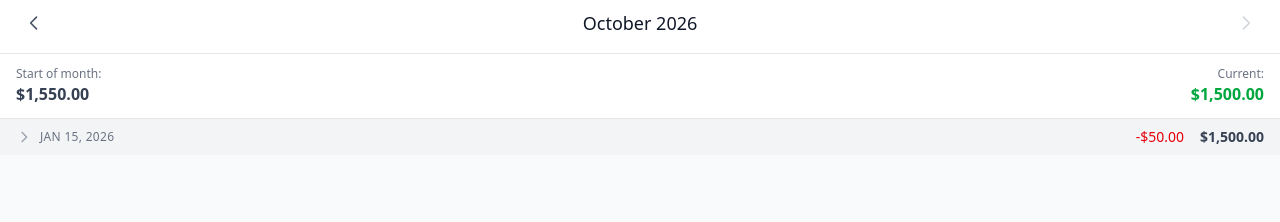
it: AccountTransactionList › Date expansion › expands collapsed date on click
Expected: the text "Test Counterparty" is not shown
Note: Click to expand
Step 1. Click the element with class "cursor-pointer" → (640, 137), box [0,119,1279,155]
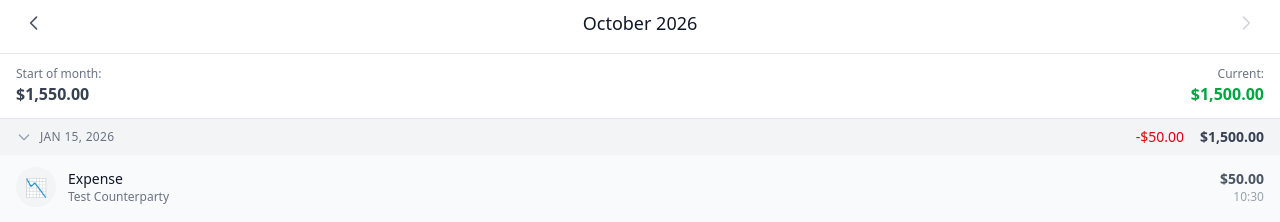
Expected: the text "Test Counterparty" is shown, [68,188,169,205]
